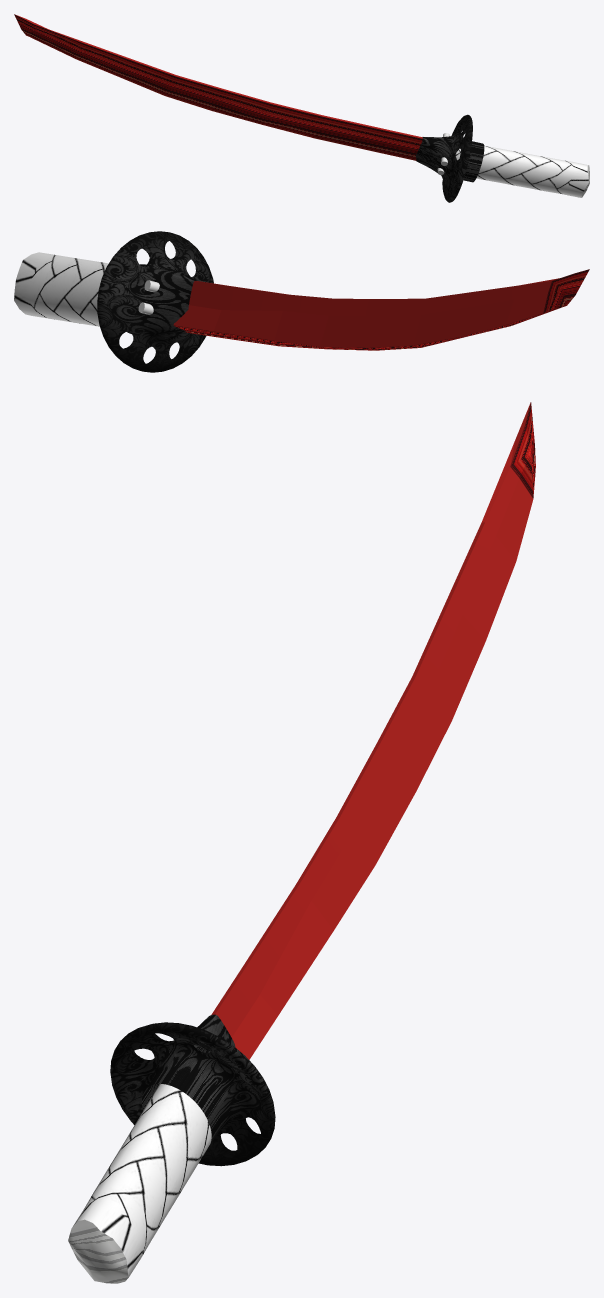
File: sword.fbx
3 views of the same model, one above another, from view 1: azimuth 30°, elevation 25°; view 2: azimuth 150°, elevation 25°; view 3: azimuth 270°, elevation 25° (orthographic). The views are drawn at different scales.
Visible parts, largest first — view 1: Plane019, Cylinder010, Cylinder001; view 2: Plane019, Cylinder001, Cylinder010; view 3: Plane019, Cylinder010, Cylinder001.
Part boxes in pixels (x1,y1,x2,y2): Plane019: [14, 14, 422, 160]; Cylinder010: [455, 145, 589, 197]; Cylinder001: [416, 114, 484, 202]; Plane019: [173, 269, 589, 350]; Cylinder001: [97, 231, 213, 372]; Cylinder010: [14, 252, 108, 326]; Plane019: [211, 402, 535, 1059]; Cylinder010: [68, 1083, 211, 1283]; Cylinder001: [110, 1014, 275, 1166].
Size of the model in its own units: 106 by 47.08 by 45.89.
Materials: 3 (3 with a texture image).
